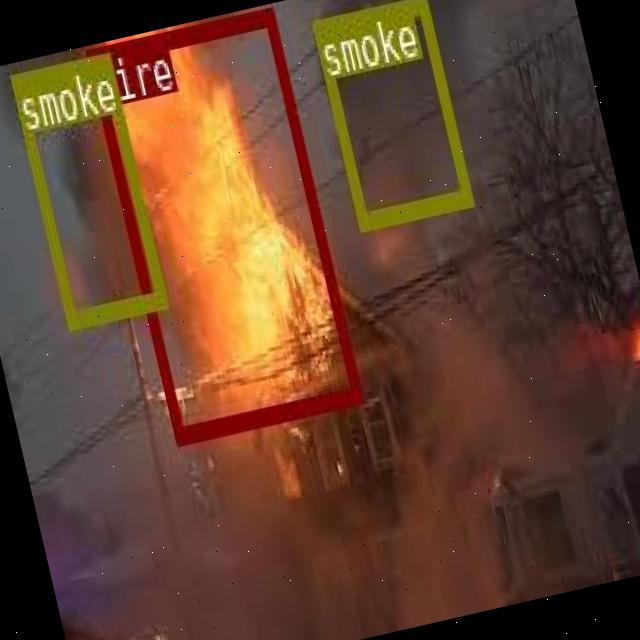fire: (84, 3, 360, 440)
smoke: (10, 51, 166, 325), (310, 0, 471, 228)
